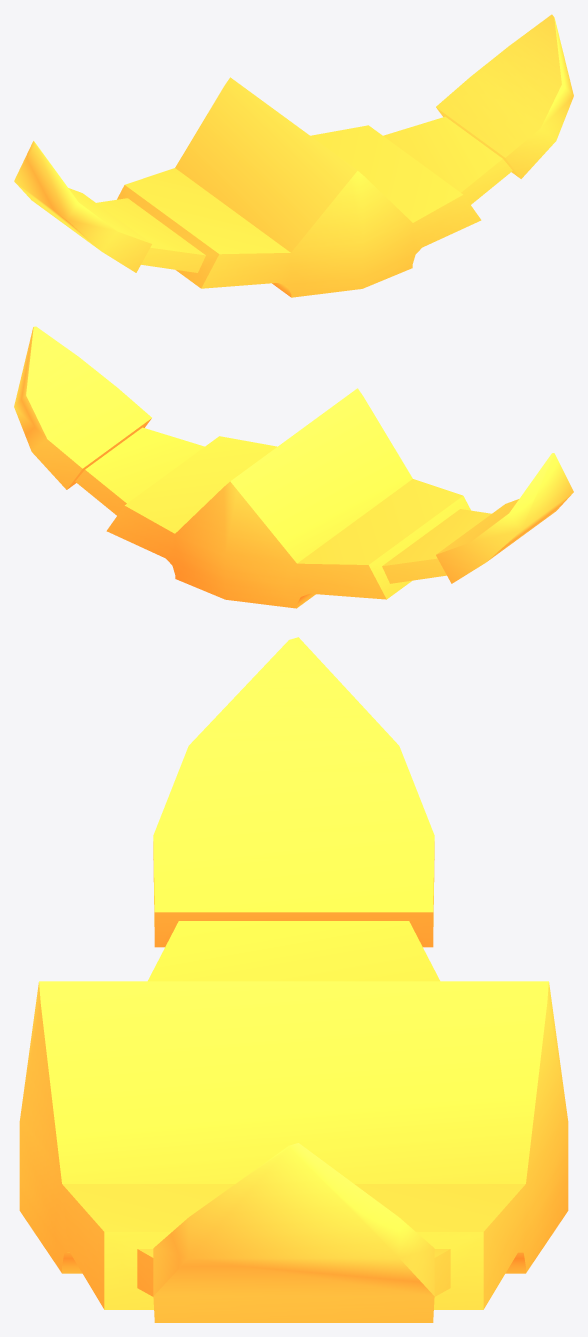
Rendered from gold_guard_006.glb.
3 renders of one model, top to bottom at view 1: azimuth 30°, elevation 25°; view 2: azimuth 150°, elevation 25°; view 3: azimuth 270°, elevation 25°, orthographic. The views are drawn at different scales.
Visible parts, largest first — view 1: gold_guard_006; view 2: gold_guard_006; view 3: gold_guard_006.
Part boxes in pixels (box(x1,y1,x2,y2)): gold_guard_006: box(14, 14, 573, 297); gold_guard_006: box(14, 326, 573, 608); gold_guard_006: box(19, 637, 568, 1322).
Size of the model in its own units: 5.66 by 1.69 by 2.59.
Materials: 1 (1 with a texture image).
